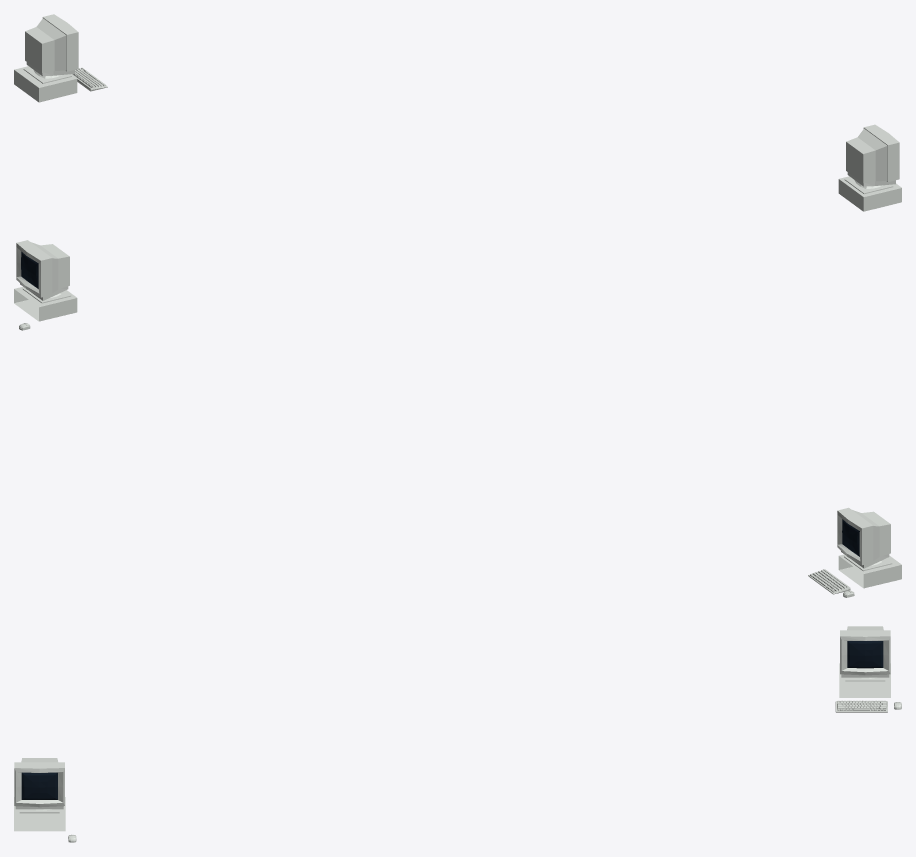
File: retro-pc-black.obj
3 views of the same model, one above another, from view 1: azimuth 30°, elevation 25°; view 2: azimuth 210°, elevation 25°; view 3: azimuth 270°, elevation 25° (orthographic). The views are drawn at different scales.
Parts seen in each view (by area): view 1: monitor_002.003-0, pc_004.006-0, keyboard_002.002; view 2: monitor_002.003-0, pc_004.006-0, monitor_002.003-1; view 3: monitor_002.003-0, pc_004.006-0, monitor_002.003-1, keyboard_002.002.
Part boxes in pixels (x1=…): monitor_002.003-0: x1=23, y1=14, x2=899, y2=194; pc_004.006-0: x1=14, y1=66, x2=901, y2=211; keyboard_002.002: x1=71, y1=67, x2=107, y2=91; monitor_002.003-0: x1=16, y1=240, x2=892, y2=571; pc_004.006-0: x1=14, y1=286, x2=901, y2=588; monitor_002.003-1: x1=21, y1=251, x2=859, y2=556; monitor_002.003-0: x1=14, y1=626, x2=890, y2=813; pc_004.006-0: x1=14, y1=663, x2=890, y2=831; monitor_002.003-1: x1=21, y1=641, x2=883, y2=799; keyboard_002.002: x1=835, y1=700, x2=887, y2=712.
Size of the model in its own units: 0.8186 by 0.2239 by 1.25.
